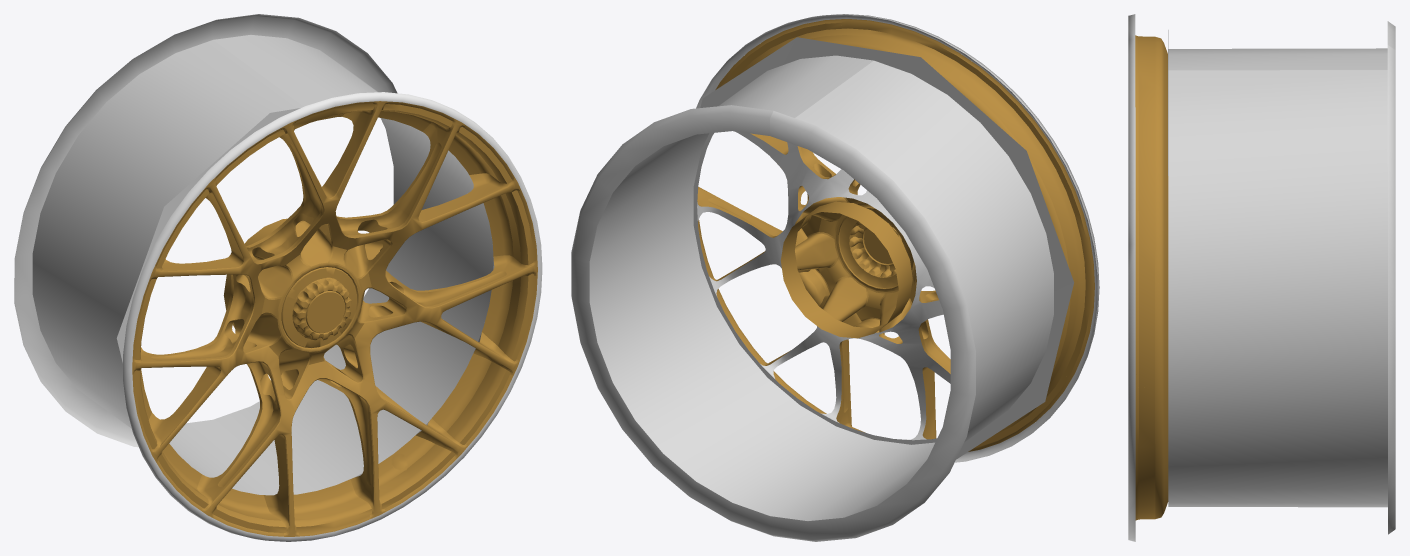
The model's file is gt3rs-wheels.glb.
3 views of the same model, side by side, from view 1: azimuth 30°, elevation 25°; view 2: azimuth 150°, elevation 25°; view 3: azimuth 270°, elevation 25° (orthographic). The views are drawn at different scales.
Parts seen in each view (by area): view 1: RS_wheel_lf.child.002, RS_wheel_lf.child, RS_wheel_lf.child.004; view 2: RS_wheel_lf.child.002, RS_wheel_lf.child, RS_wheel_lf.child.004; view 3: RS_wheel_lf.child.002, RS_wheel_lf.child, RS_wheel_lf.child.004.
Boxes of the visible parts, bbox=[...] form: RS_wheel_lf.child.002: bbox=[14, 14, 494, 495]; RS_wheel_lf.child: bbox=[132, 101, 537, 536]; RS_wheel_lf.child.004: bbox=[123, 92, 542, 541]; RS_wheel_lf.child.002: bbox=[571, 37, 1074, 541]; RS_wheel_lf.child: bbox=[697, 19, 1094, 451]; RS_wheel_lf.child.004: bbox=[696, 14, 1099, 462]; RS_wheel_lf.child.002: bbox=[1168, 21, 1395, 534]; RS_wheel_lf.child: bbox=[1135, 35, 1168, 520]; RS_wheel_lf.child.004: bbox=[1128, 14, 1135, 541].
Size of the model in its own units: 2.15 by 2.15 by 1.09.
